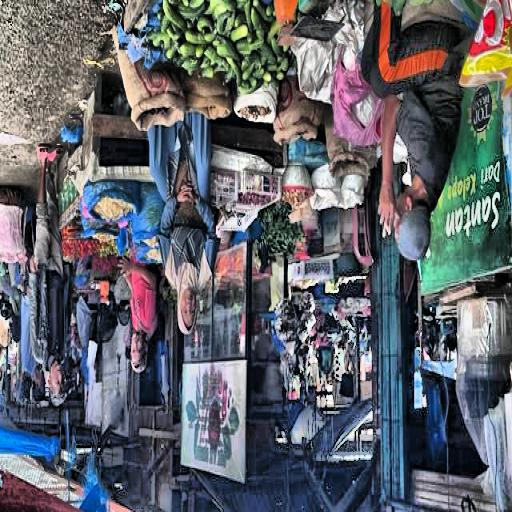Rokok: (362, 3, 468, 260)
